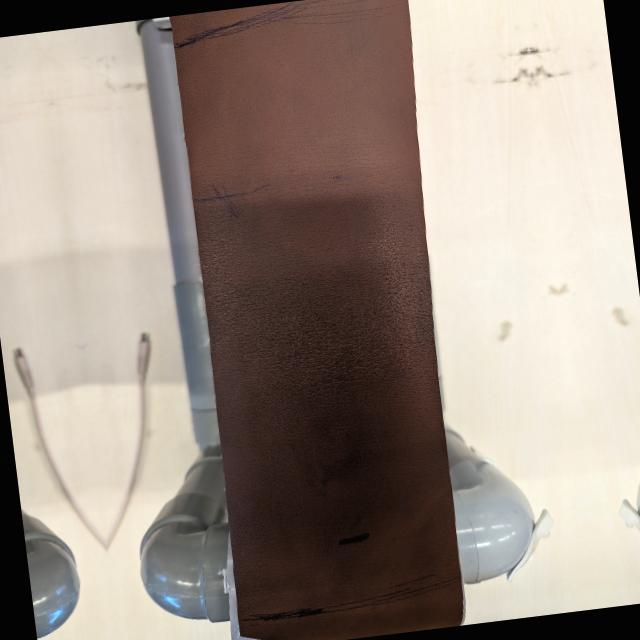belt_tear: (237, 615, 282, 640)
